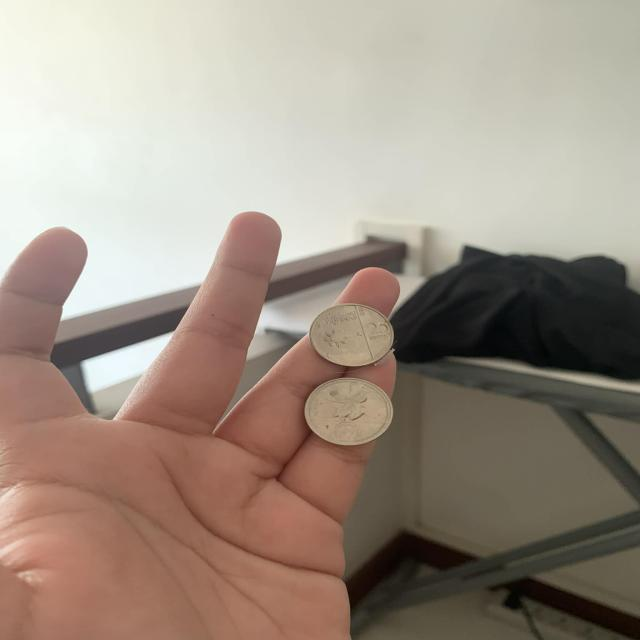25 cents: (302, 378, 397, 449), (304, 299, 398, 368)
